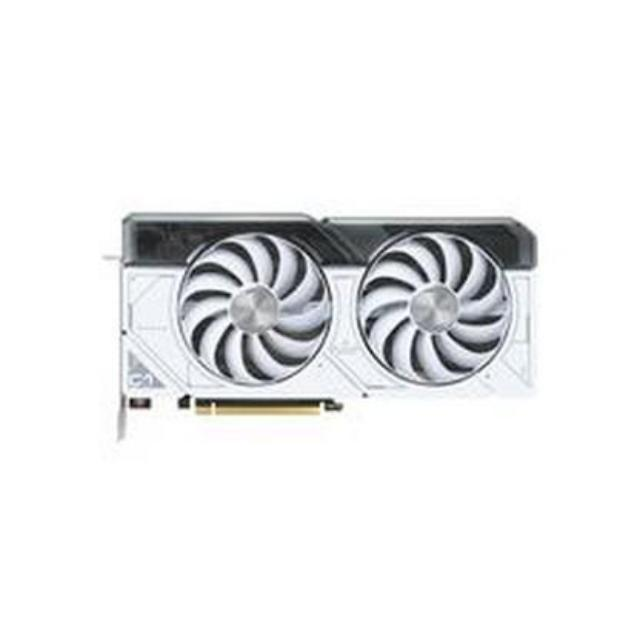GPU: (110, 210, 542, 416)
